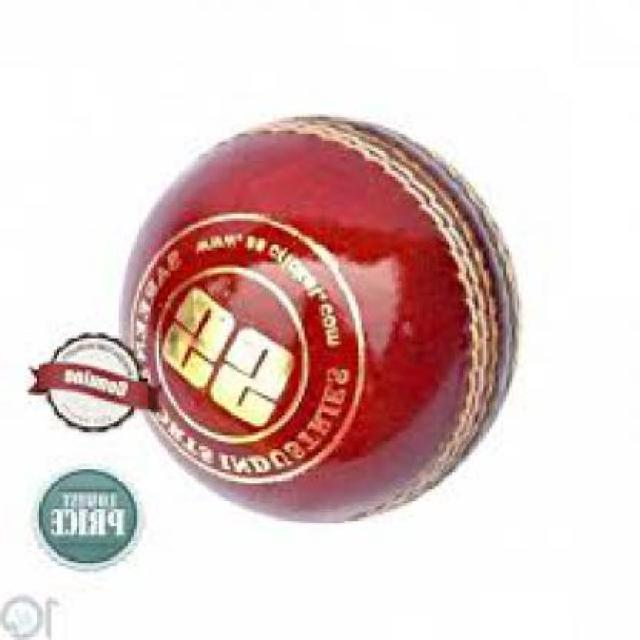ball: (108, 80, 551, 528)
